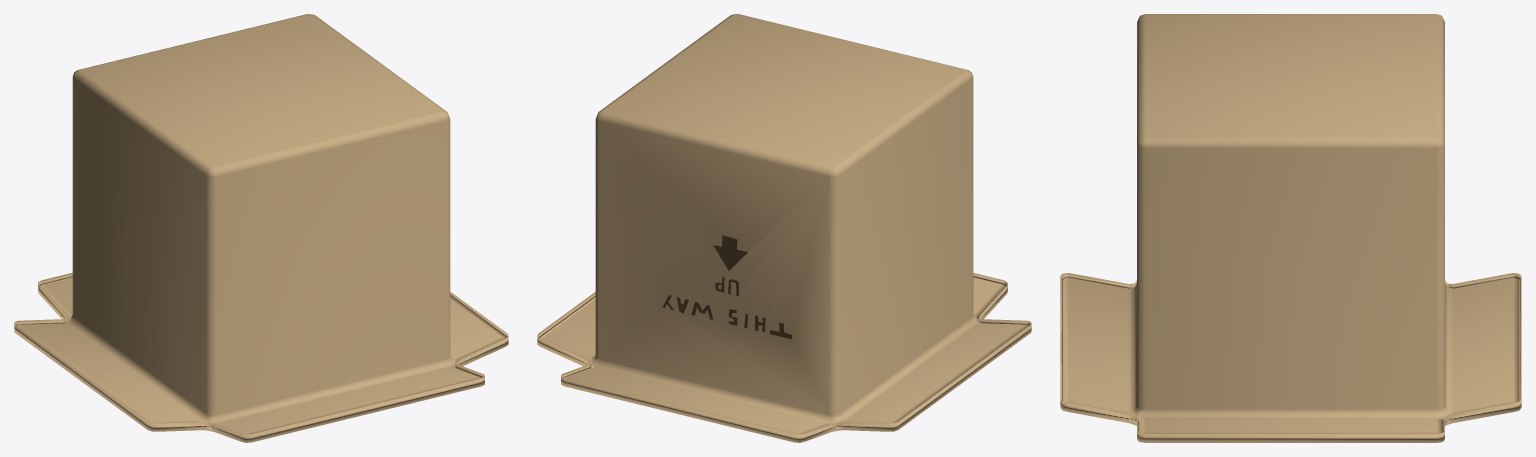
Rendered from cardboard bedside table.fbx.
3 renders of one model, left to right at view 1: azimuth 30°, elevation 25°; view 2: azimuth 150°, elevation 25°; view 3: azimuth 270°, elevation 25°, orthographic. The views are drawn at different scales.
Visible parts, largest first — view 1: Cube; view 2: Cube; view 3: Cube.
Part boxes in pixels (x1,y1,x2,y2): Cube: [14, 14, 508, 442]; Cube: [537, 14, 1031, 442]; Cube: [1060, 14, 1521, 442].
Bounding box in the file's own units: 42.17 × 28.9 × 42.61.
